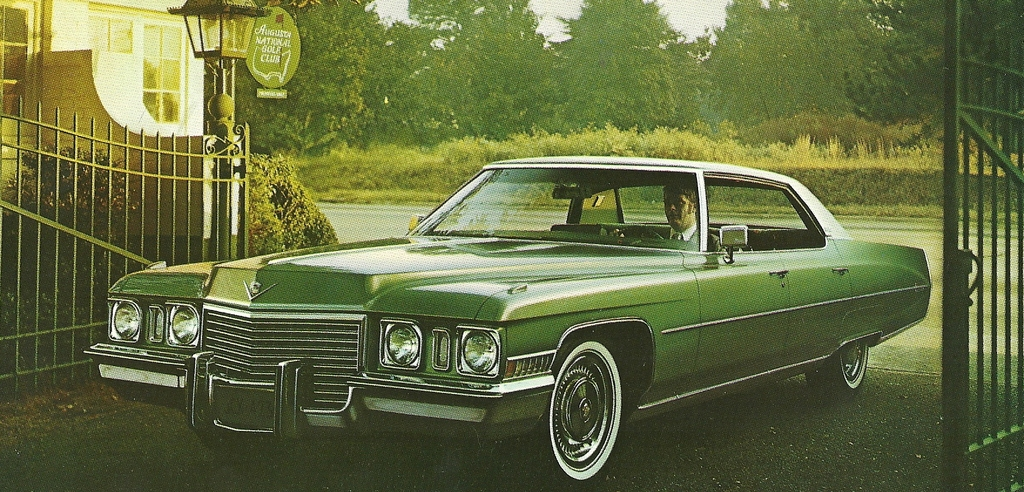Car: (80, 155, 931, 487)
